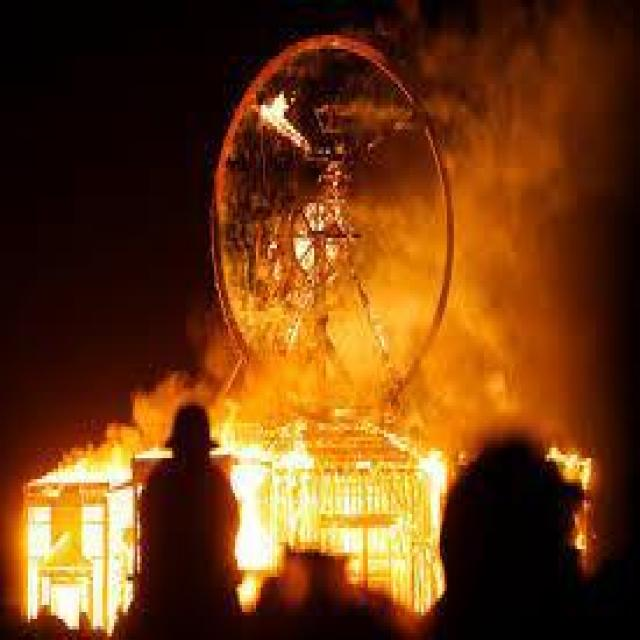fire: (1, 400, 628, 628), (220, 62, 400, 310)
